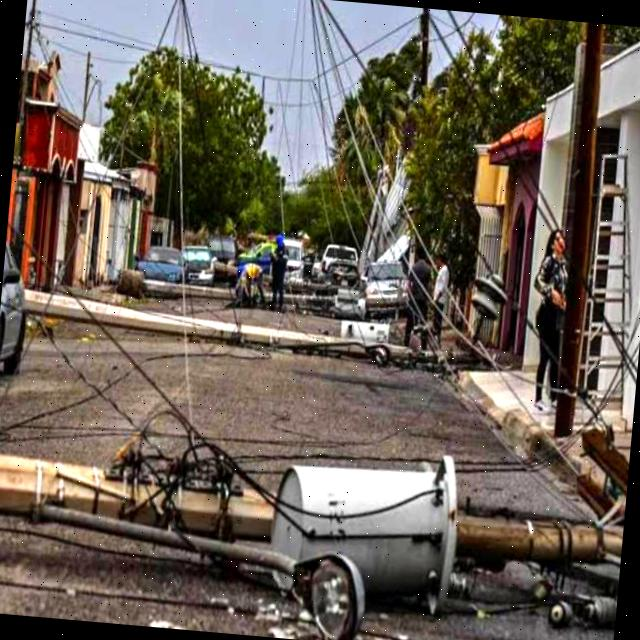Broken Pole: (0, 447, 610, 640), (22, 285, 488, 369)
